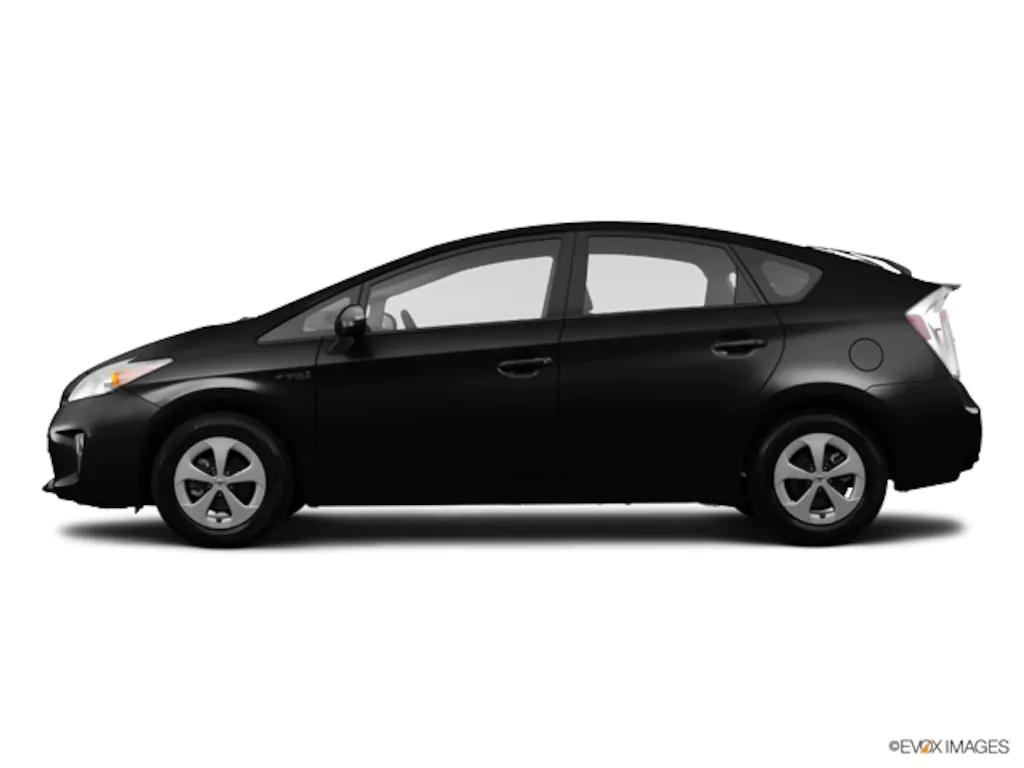Toyota Prius: (37, 219, 982, 549)
